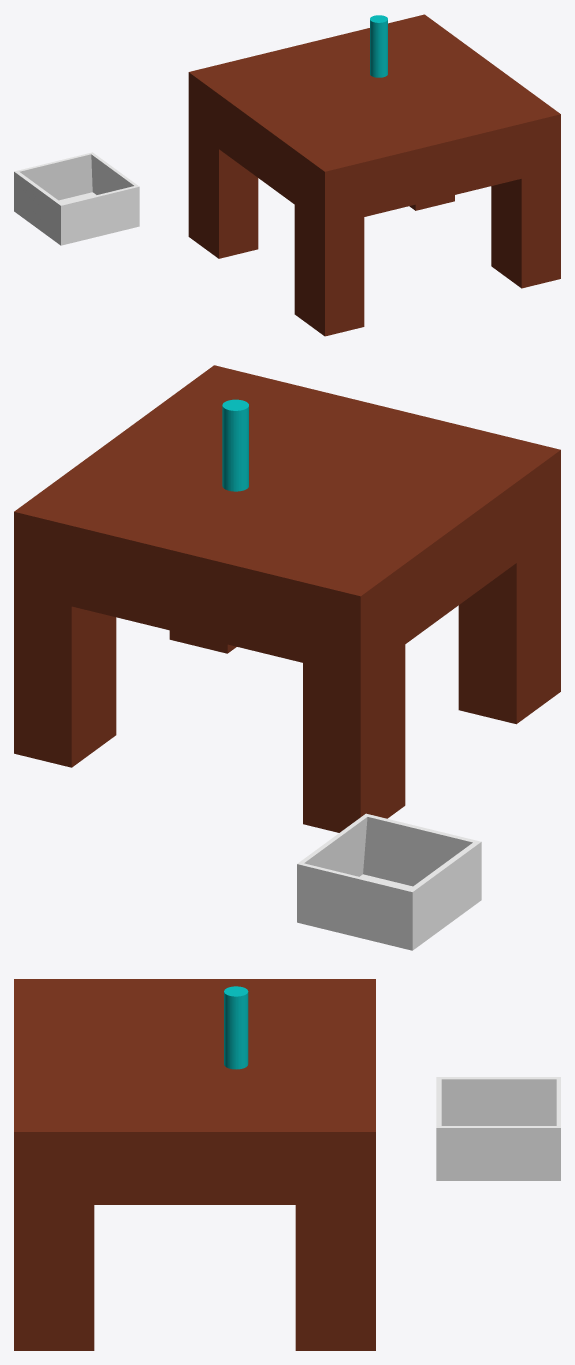
File: can_world_1_cans.dae
The picture shows the model from 3 angles, top to bottom: view 1: azimuth 30°, elevation 25°; view 2: azimuth 150°, elevation 25°; view 3: azimuth 270°, elevation 25°; orthographic projection. The views are drawn at different scales.
Parts seen in each view (by area): view 1: base (×5), SketchUp (×2); view 2: base (×5), SketchUp (×2); view 3: base (×4), SketchUp (×2).
Boxes of the visible parts, bbox=[...] form: base (×5): bbox=[188, 14, 560, 336]; SketchUp (×2): bbox=[14, 152, 139, 245]; base (×5): bbox=[14, 365, 560, 832]; SketchUp (×2): bbox=[297, 813, 481, 950]; base (×4): bbox=[14, 979, 375, 1350]; SketchUp (×2): bbox=[436, 1077, 560, 1180].
Size of the model in its own units: 1.3 by 1.36 by 0.811.
